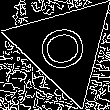O_E: (33, 19, 95, 75)
